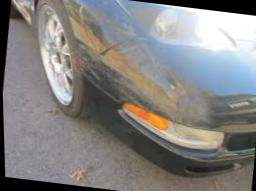Fender: (63, 0, 213, 130)
